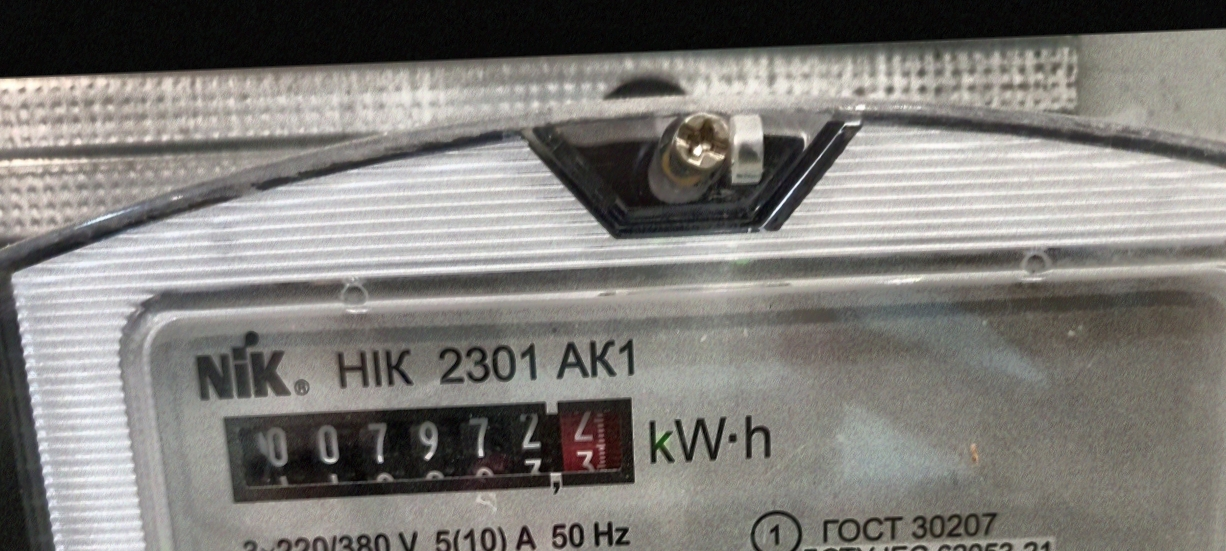0: (262, 424, 290, 467), (314, 421, 340, 464)
2: (517, 411, 542, 450), (569, 409, 593, 444)
3: (572, 446, 595, 472)
7: (465, 414, 492, 460), (364, 419, 390, 465)
9: (414, 417, 438, 462)
screen: (205, 385, 652, 517)
